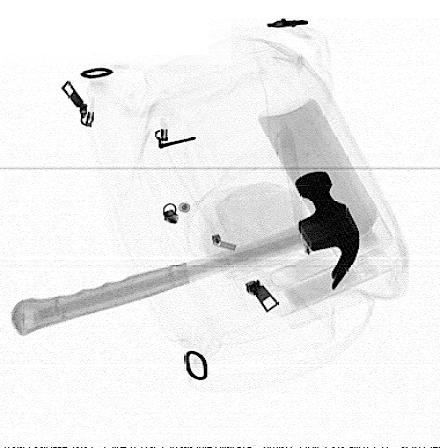Hammer: (11, 171, 360, 338)
